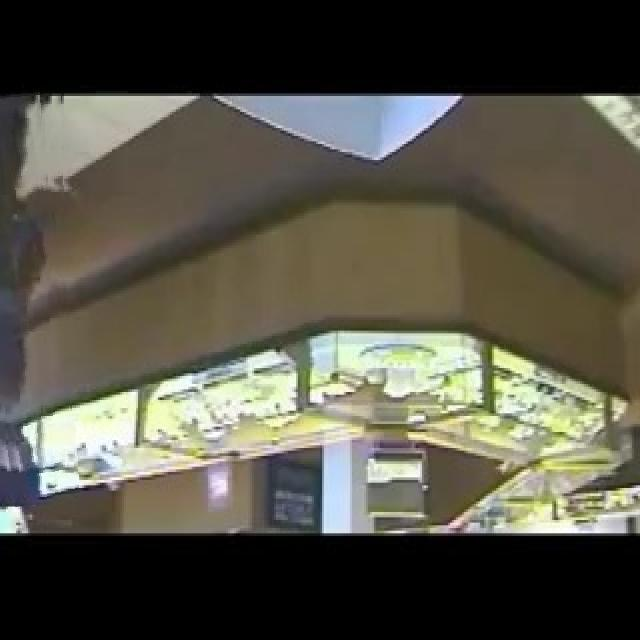Normal: (0, 88, 73, 506)
